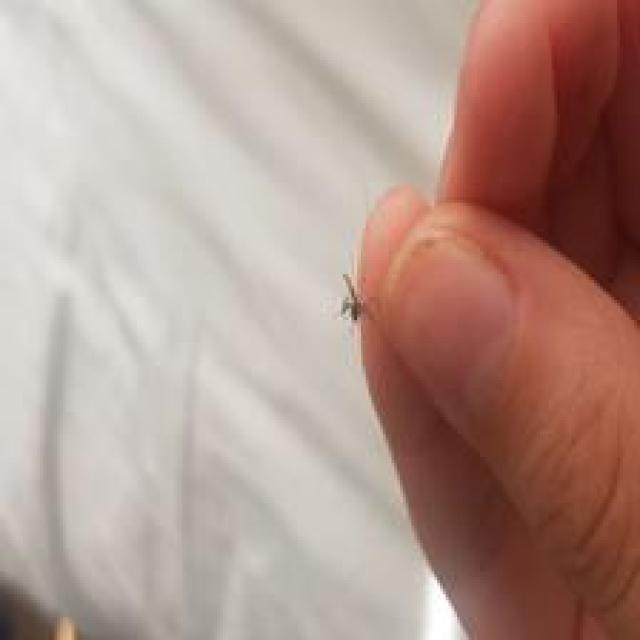Culex: (336, 271, 367, 326)
